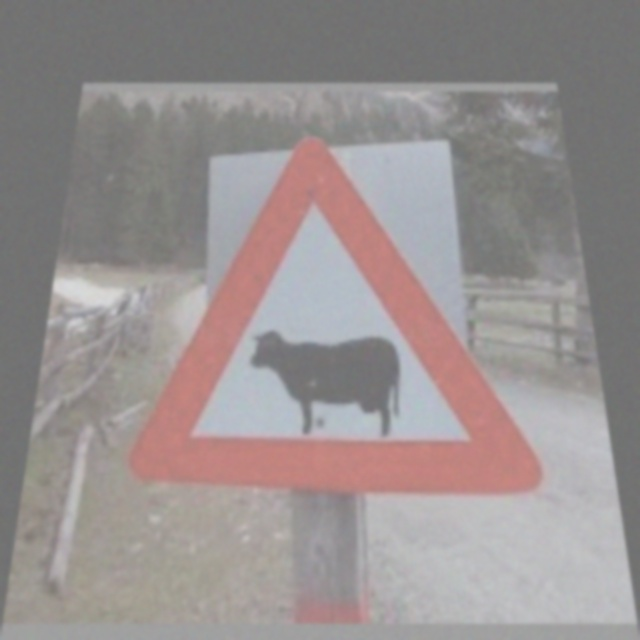Cattle: (155, 152, 528, 495)
